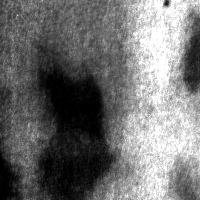patches: (24, 23, 136, 135), (111, 92, 200, 200), (44, 73, 106, 197), (48, 0, 128, 56), (165, 155, 199, 200), (183, 14, 200, 92), (1, 155, 22, 200)
